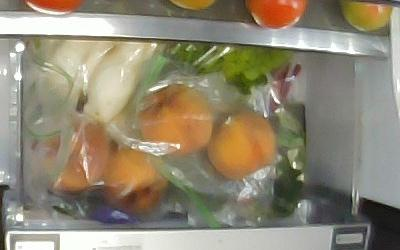peach_vinyl: (31, 118, 111, 193), (136, 83, 213, 156), (206, 109, 279, 179), (100, 147, 170, 212)
